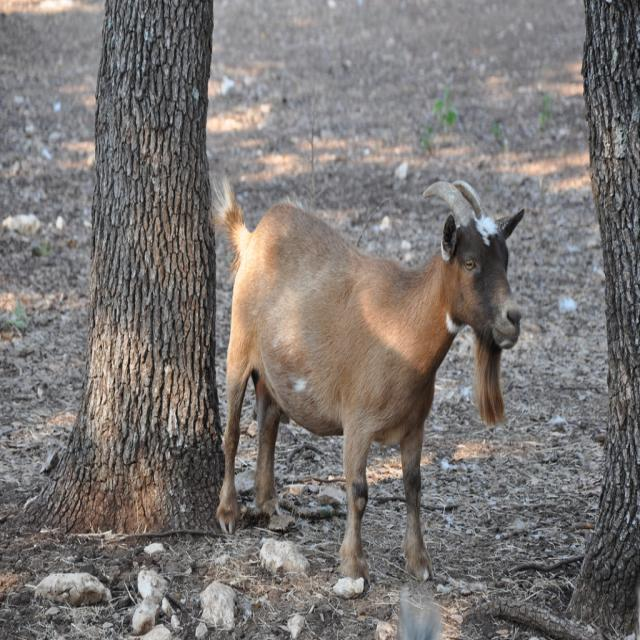Goat: (206, 164, 534, 616)
